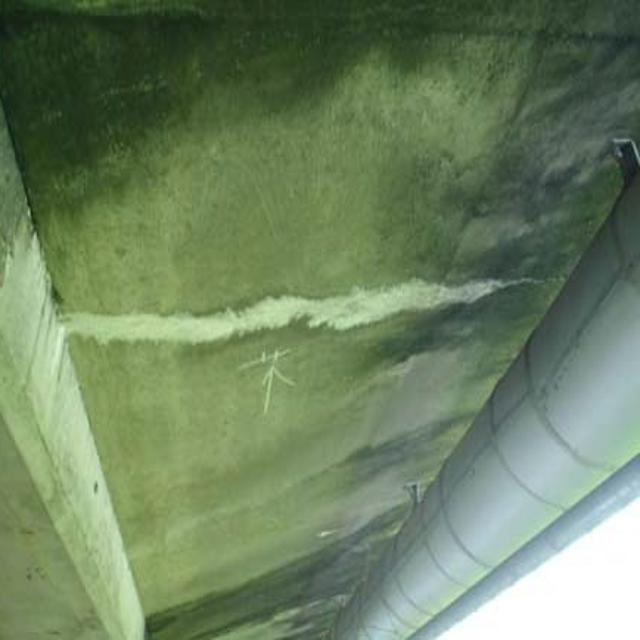freelime: (44, 260, 510, 364)
